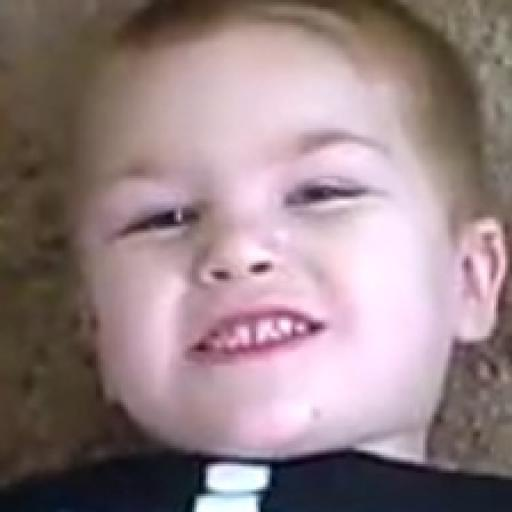Autism: (50, 18, 512, 475)
